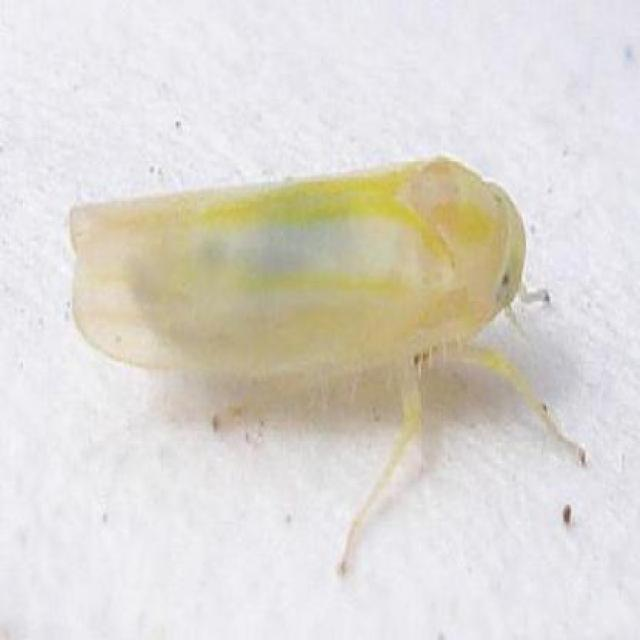green-leafhopper: (68, 156, 537, 364)
